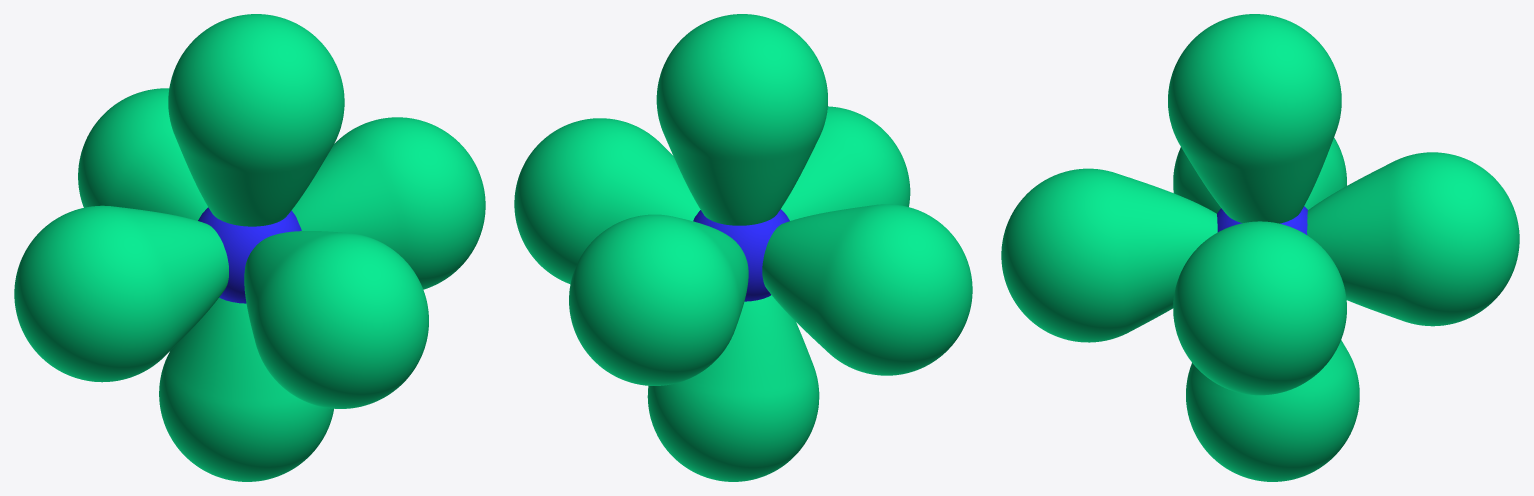
The picture shows the model from 3 angles, left to right: view 1: azimuth 30°, elevation 25°; view 2: azimuth 150°, elevation 25°; view 3: azimuth 270°, elevation 25°; orthographic projection. The views are drawn at different scales.
Visible parts, largest first — view 1: Sphere.004, Sphere.006, Sphere.002, Sphere.003, Sphere.005, Sphere.001, Sphere; view 2: Sphere.006, Sphere.004, Sphere.001, Sphere.005, Sphere.003, Sphere.002, Sphere; view 3: Sphere.006, Sphere.001, Sphere.002, Sphere.003, Sphere.005, Sphere.004, Sphere.
Boxes of the visible parts, x1,y1,x2,y2 form: Sphere.004: [14, 205, 228, 382]; Sphere.006: [168, 14, 344, 226]; Sphere.002: [244, 231, 428, 408]; Sphere.003: [291, 117, 485, 289]; Sphere.005: [159, 297, 333, 481]; Sphere.001: [78, 88, 207, 220]; Sphere: [198, 207, 301, 303]; Sphere.006: [656, 14, 827, 225]; Sphere.004: [762, 204, 972, 375]; Sphere.001: [569, 214, 748, 385]; Sphere.005: [647, 295, 819, 481]; Sphere.003: [514, 118, 700, 284]; Sphere.002: [781, 106, 910, 220]; Sphere: [693, 209, 789, 301]; Sphere.006: [1168, 14, 1341, 223]; Sphere.001: [1307, 152, 1519, 326]; Sphere.002: [1001, 168, 1217, 342]; Sphere.003: [1173, 221, 1346, 395]; Sphere.005: [1186, 340, 1359, 481]; Sphere.004: [1173, 137, 1346, 213]; Sphere: [1217, 206, 1307, 234].
Bounding box in the file's own units: 5.86 × 5.73 × 5.96.
Materials: 7 (1 with a texture image).
